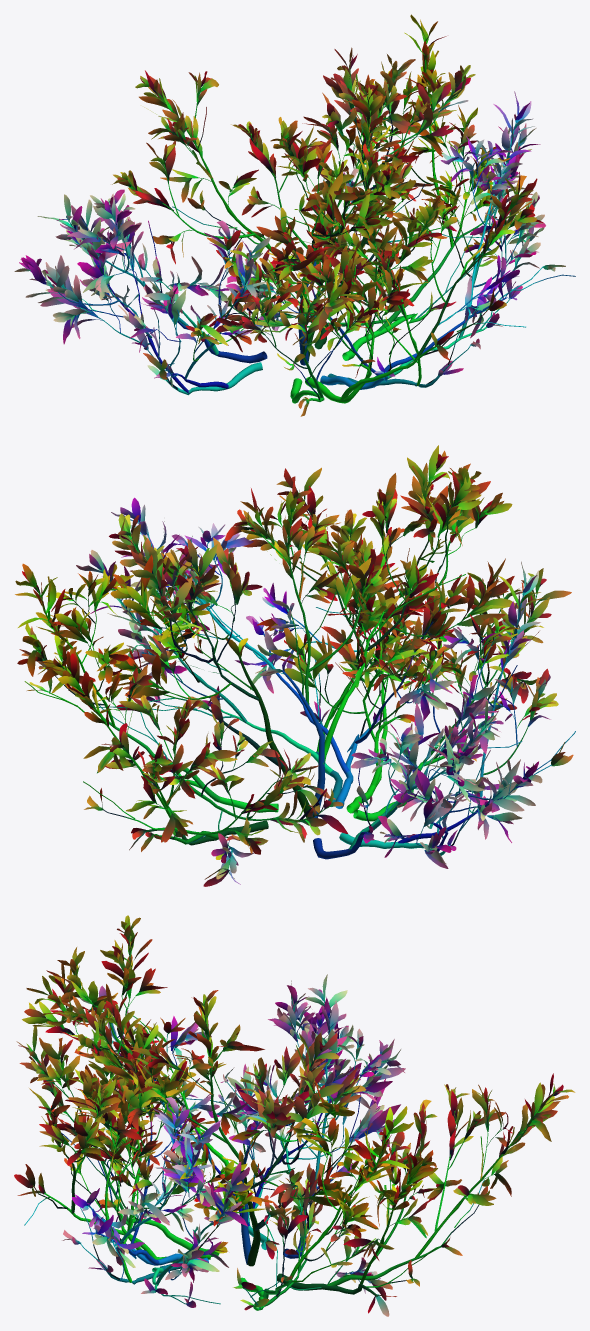
Rendered from Downy_Willow_wknlfiuqx_Mid_wknlfiuqx_VarF_LOD0.fbx.
3 views of the same model, one above another, from view 1: azimuth 30°, elevation 25°; view 2: azimuth 150°, elevation 25°; view 3: azimuth 270°, elevation 25° (orthographic). The views are drawn at different scales.
Visible parts, largest first — view 1: _a902_VarF_LOD1; view 2: _a902_VarF_LOD1; view 3: _a902_VarF_LOD1.
Part boxes in pixels (left/top/right/bottom): _a902_VarF_LOD1: left=14, top=14, right=575, bottom=416; _a902_VarF_LOD1: left=15, top=445, right=575, bottom=886; _a902_VarF_LOD1: left=14, top=915, right=575, bottom=1316.
Size of the model in its own units: 190 by 125 by 193.
